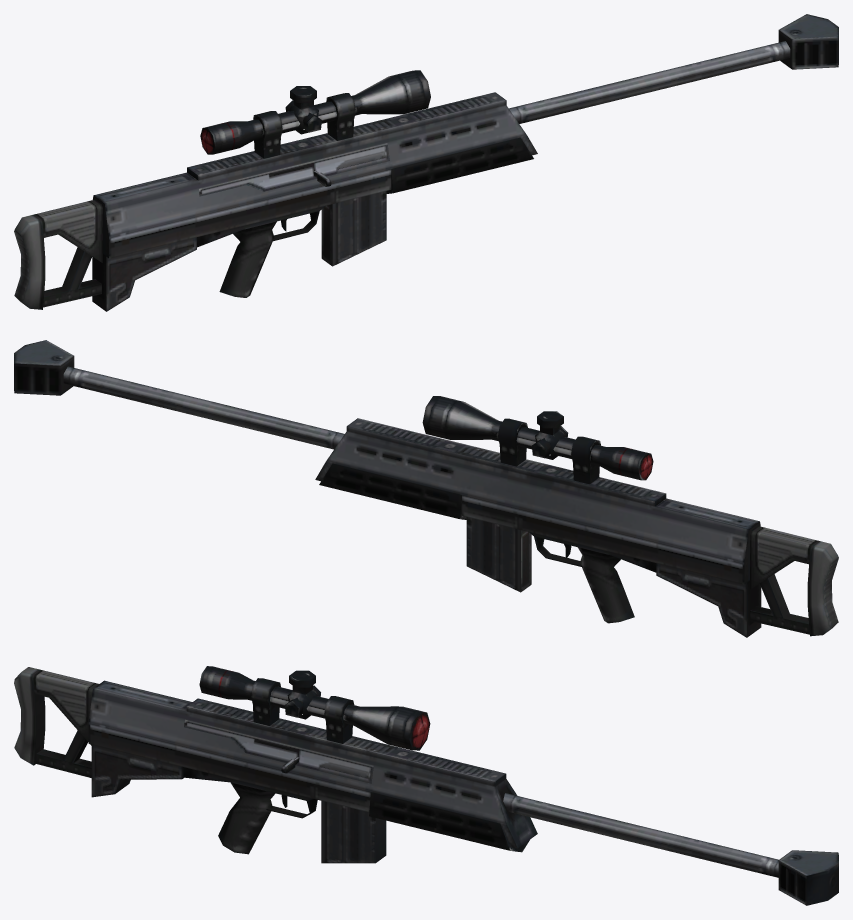
Rendered from Weapon_Armas_SniperRifle_50Cal_Weapon_Armas_SniperRifle_50Cal_SkeletalMesh3_Enf_SniperRifle_Mk2_LOD0.psk.glb.
3 renders of one model, top to bottom at view 1: azimuth 30°, elevation 25°; view 2: azimuth 150°, elevation 25°; view 3: azimuth 330°, elevation 25°, orthographic.
Size of the model in its own units: 116 by 25.97 by 9.62.
Materials: 1 (1 with a texture image).
